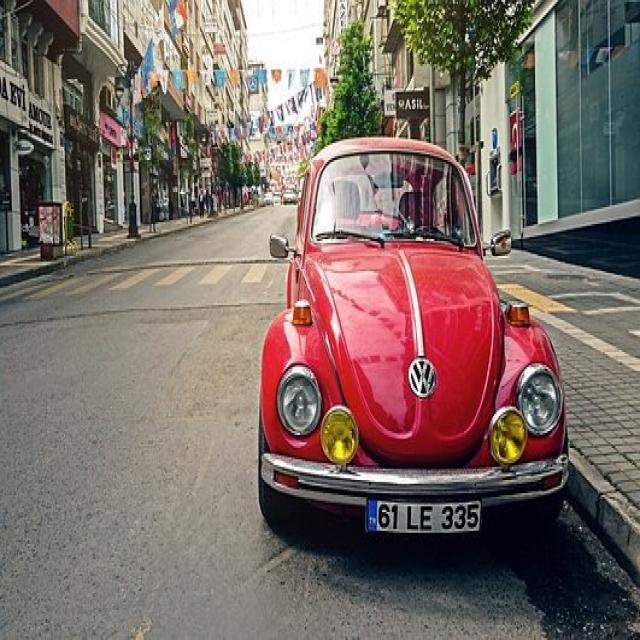cars: (262, 138, 568, 542)
